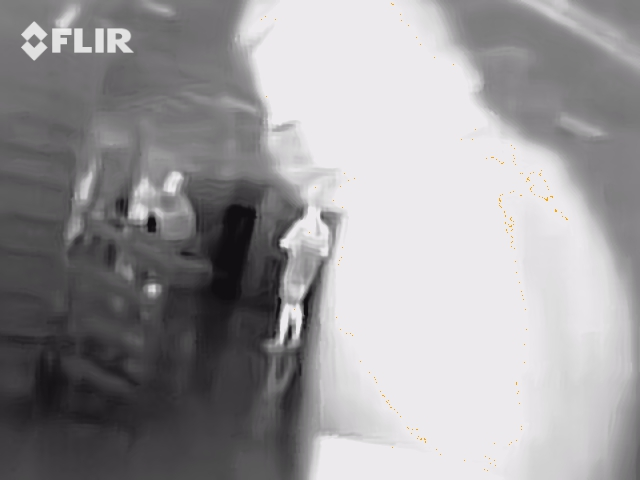head: (247, 1, 486, 216)
